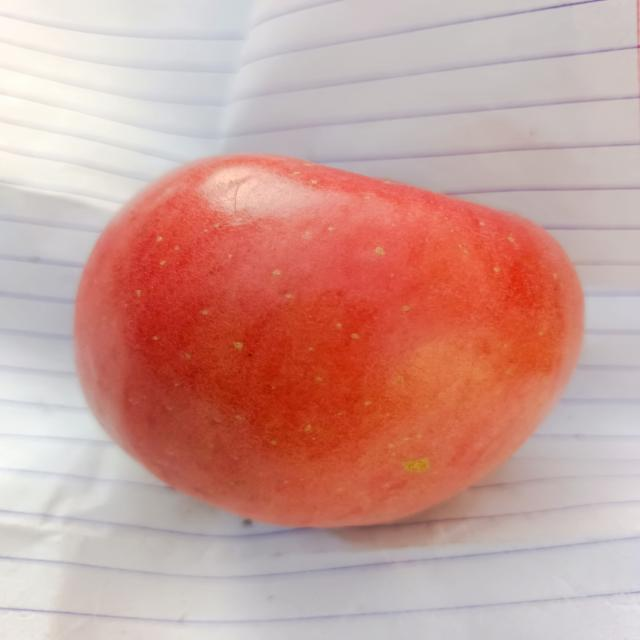Fresh Apple: (70, 148, 582, 534)
